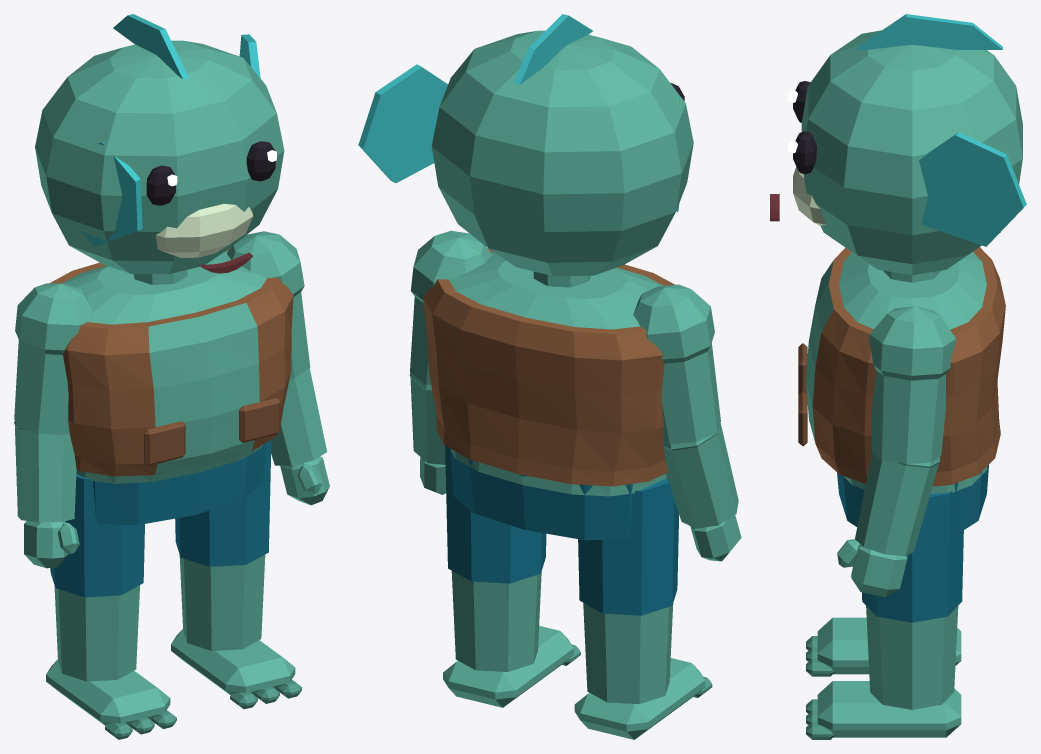
Rendered from pel-k3.glb.
3 views of the same model, side by side, from view 1: azimuth 30°, elevation 25°; view 2: azimuth 150°, elevation 25°; view 3: azimuth 270°, elevation 25° (orthographic). The views are drawn at different scales.
Parts seen in each view (by area): view 1: kopf, weste, arm_r, bein_r, bein_l, torso, arm_l, becken, schuh_r, schuh_l, flossenohren, schnauze (+5 smaller); view 2: kopf, weste, bein_r, arm_r, bein_l, torso, flossenohren, becken, arm_l, schuh_r, schuh_l, hand_r (+1 smaller); view 3: kopf, weste, arm_l, bein_l, flossenohren, torso, schuh_l, schuh_r, hand_l, becken, gesicht, taschen (+1 smaller).
Part boxes in pixels (x1,y1,x2,y2): kopf: [35, 40, 284, 274]; weste: [50, 248, 293, 476]; arm_r: [14, 283, 92, 522]; bein_r: [50, 474, 144, 681]; bein_l: [175, 440, 271, 650]; torso: [62, 251, 266, 483]; arm_l: [227, 231, 326, 465]; becken: [93, 443, 266, 524]; schuh_r: [46, 659, 176, 739]; schuh_l: [171, 629, 301, 709]; flossenohren: [80, 14, 260, 246]; schnauze: [155, 203, 252, 257]; kopf: [431, 30, 693, 276]; weste: [423, 248, 674, 486]; bein_r: [578, 477, 678, 704]; arm_r: [633, 284, 738, 528]; bein_l: [445, 445, 546, 671]; torso: [448, 252, 666, 496]; flossenohren: [358, 14, 679, 211]; becken: [450, 448, 632, 540]; arm_l: [409, 230, 491, 464]; schuh_r: [574, 658, 712, 739]; schuh_l: [443, 626, 580, 707]; hand_r: [690, 515, 741, 561]; kopf: [801, 30, 1022, 275]; weste: [805, 247, 1005, 486]; arm_l: [855, 306, 955, 556]; bein_l: [862, 491, 963, 709]; flossenohren: [857, 14, 1026, 246]; torso: [839, 252, 987, 493]; schuh_l: [806, 681, 961, 739]; schuh_r: [806, 617, 961, 676]; hand_l: [837, 539, 907, 597]; becken: [837, 465, 988, 536]; gesicht: [770, 81, 816, 221]; taschen: [798, 343, 807, 446].
Bounding box in the file's own units: 0.0108 × 0.0223 × 0.00763.
